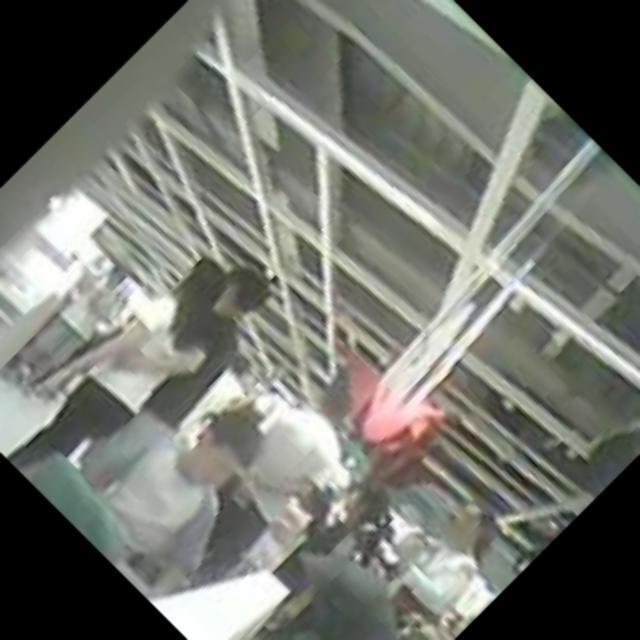person: (24, 252, 300, 528), (116, 364, 386, 634), (0, 238, 252, 500), (45, 357, 298, 610), (371, 484, 526, 640), (258, 460, 410, 612), (0, 249, 138, 395)
